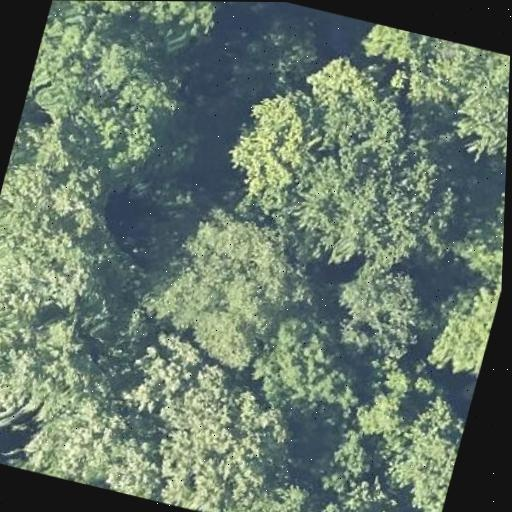tree-top: (133, 194, 317, 372), (135, 352, 305, 512), (283, 131, 460, 282), (339, 22, 511, 175), (33, 14, 189, 172), (0, 140, 139, 309), (16, 369, 156, 492), (212, 79, 330, 208), (241, 303, 368, 418), (320, 251, 441, 365), (376, 378, 473, 512), (0, 281, 70, 431), (420, 268, 502, 382), (300, 431, 397, 512), (51, 0, 232, 40), (452, 164, 506, 283), (342, 367, 420, 449), (233, 478, 400, 512)
